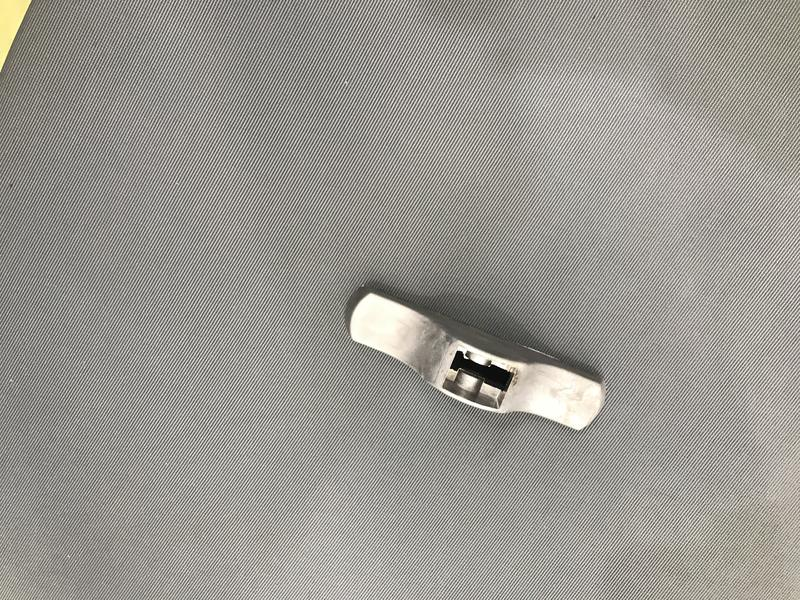zapchast: (332, 271, 622, 451)
